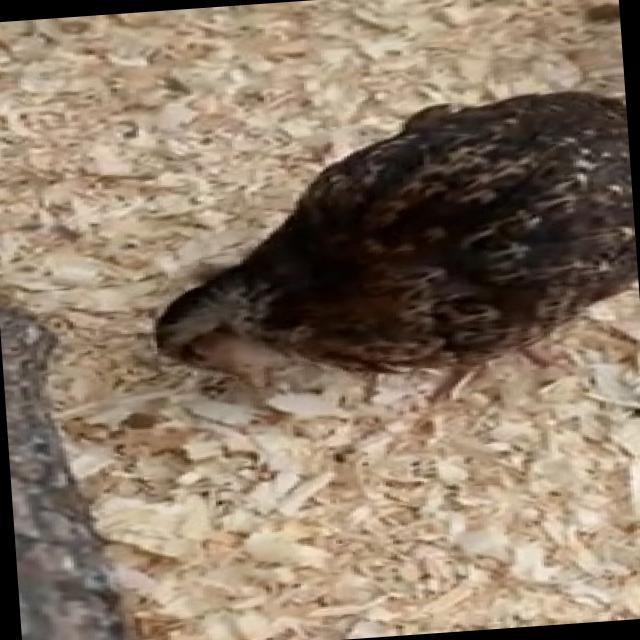newcastle: (122, 49, 640, 426)
